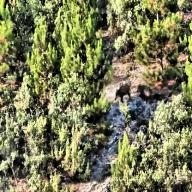boar: (113, 77, 139, 123)
